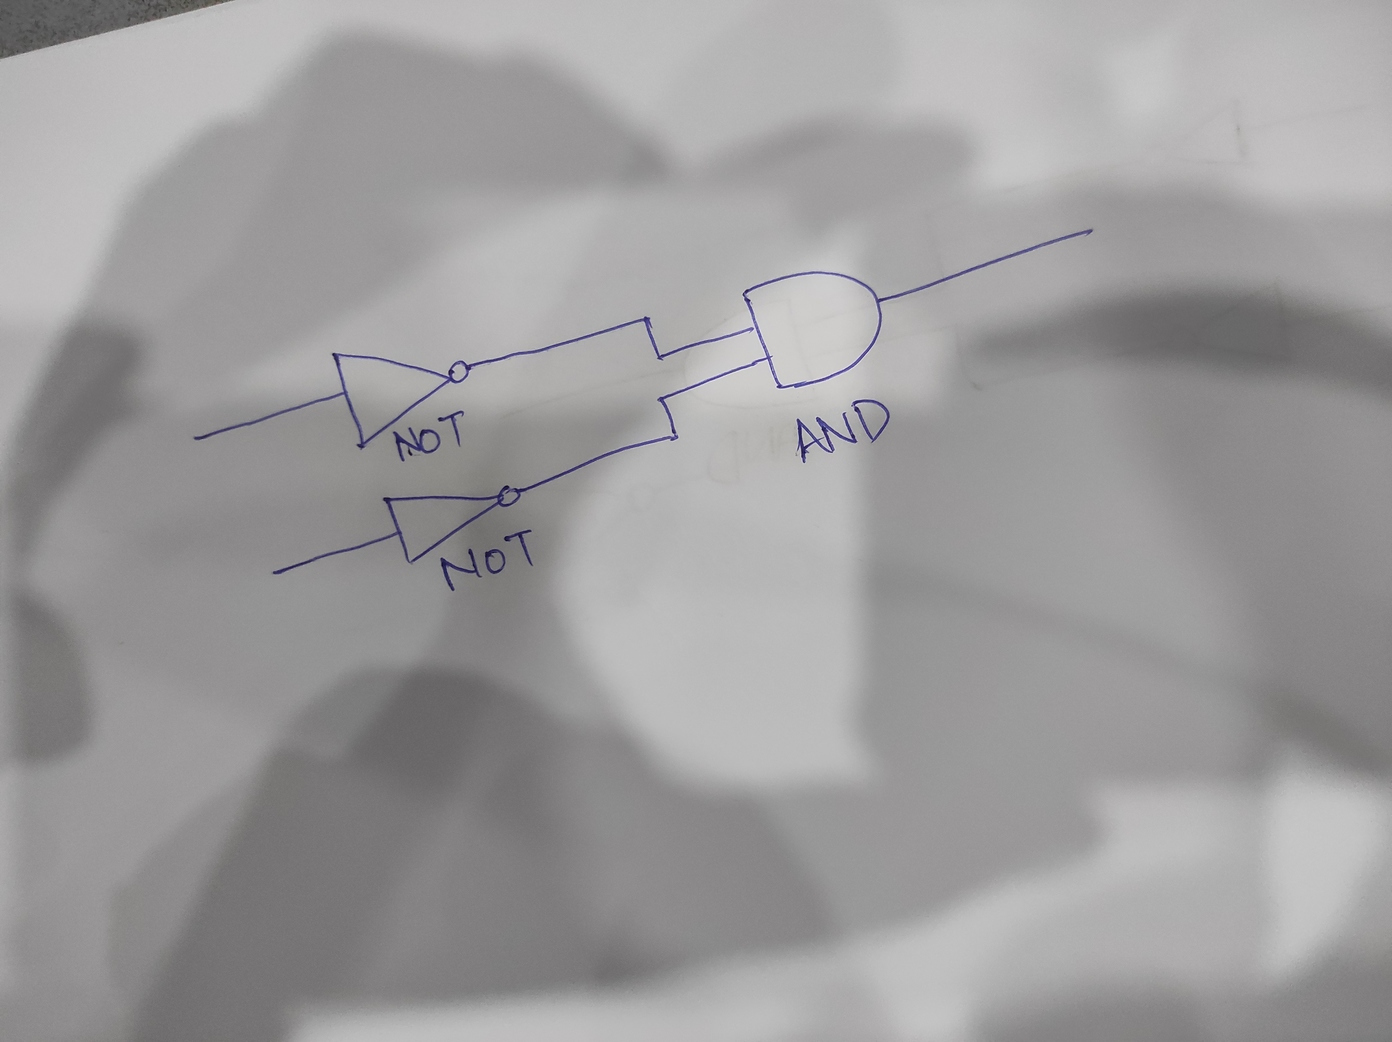and: (738, 267, 885, 392)
junction: (661, 425, 686, 447), (633, 308, 653, 332), (654, 391, 672, 410), (650, 348, 670, 364)
not: (330, 350, 474, 452), (379, 481, 523, 566)
terminal: (178, 421, 231, 451), (258, 559, 298, 584), (1070, 219, 1102, 246)
text: (792, 396, 894, 468), (438, 526, 538, 594), (391, 408, 469, 464)
